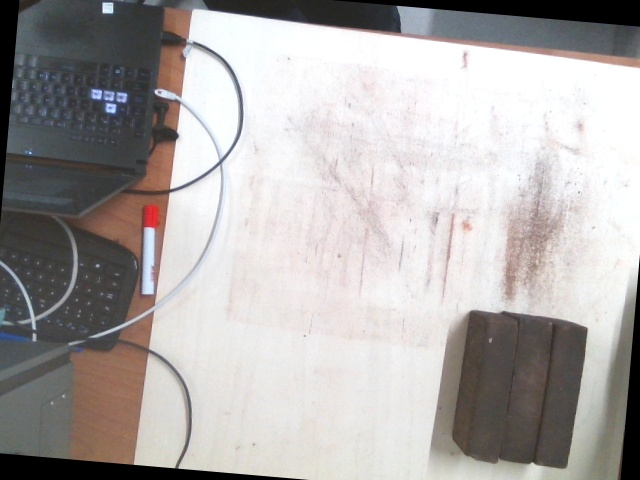brick-side: (536, 327, 588, 470), (502, 320, 553, 463), (468, 321, 519, 463)
